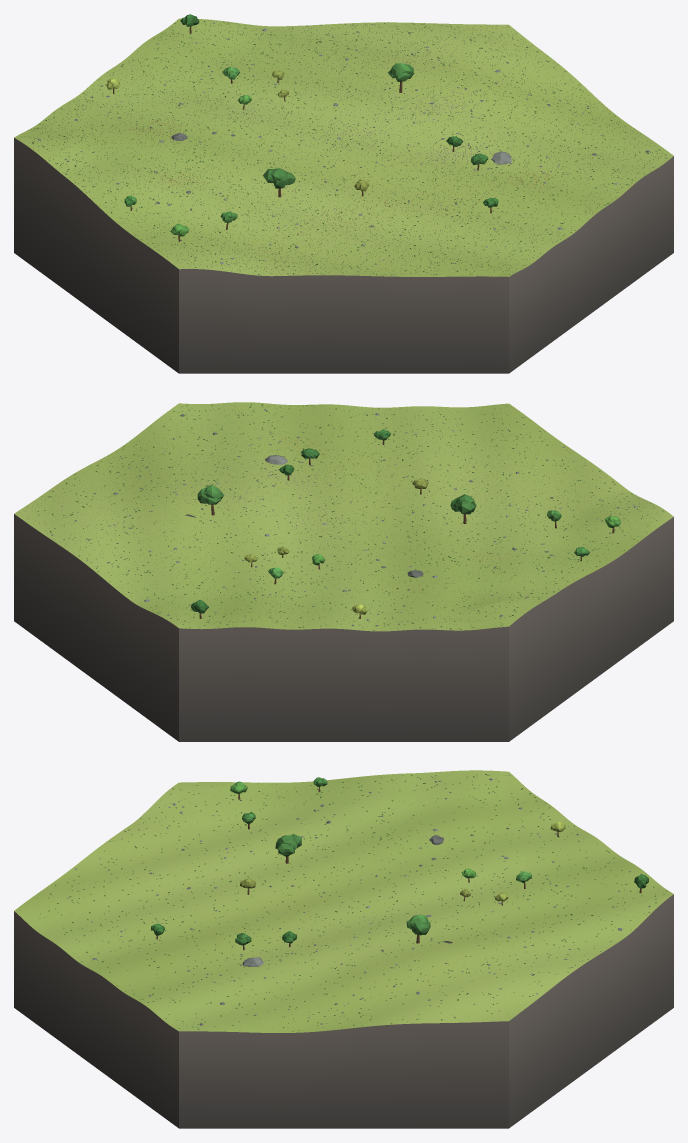
3 views of the same model, one above another, from view 1: azimuth 30°, elevation 25°; view 2: azimuth 150°, elevation 25°; view 3: azimuth 270°, elevation 25° (orthographic).
Visible parts, largest first — view 1: terrain, hex_side_cut, wildflowers, shrubs, broadleaf_canopy, boulders; view 2: terrain, hex_side_cut, wildflowers, shrubs, broadleaf_canopy, boulders; view 3: terrain, hex_side_cut, shrubs, broadleaf_canopy, boulders.
Part boxes in pixels (x1,y1,x2,y2): terrain: (14,18,673,276); hex_side_cut: (14,138,673,373); wildflowers: (19,19,667,276); shrubs: (21,21,666,275); broadleaf_canopy: (106,14,498,236); boulders: (38,22,649,275); terrain: (14,402,673,631); hex_side_cut: (14,514,673,741); wildflowers: (19,402,663,628); shrubs: (37,404,663,630); broadleaf_canopy: (191,429,620,614); boulders: (38,409,637,627); terrain: (14,770,673,1032); hex_side_cut: (14,894,673,1128); shrubs: (20,774,666,1031); broadleaf_canopy: (151,777,648,945); boulders: (67,778,659,1025).
Bounding box in the file's own units: 4330 × 1163 × 5000.
